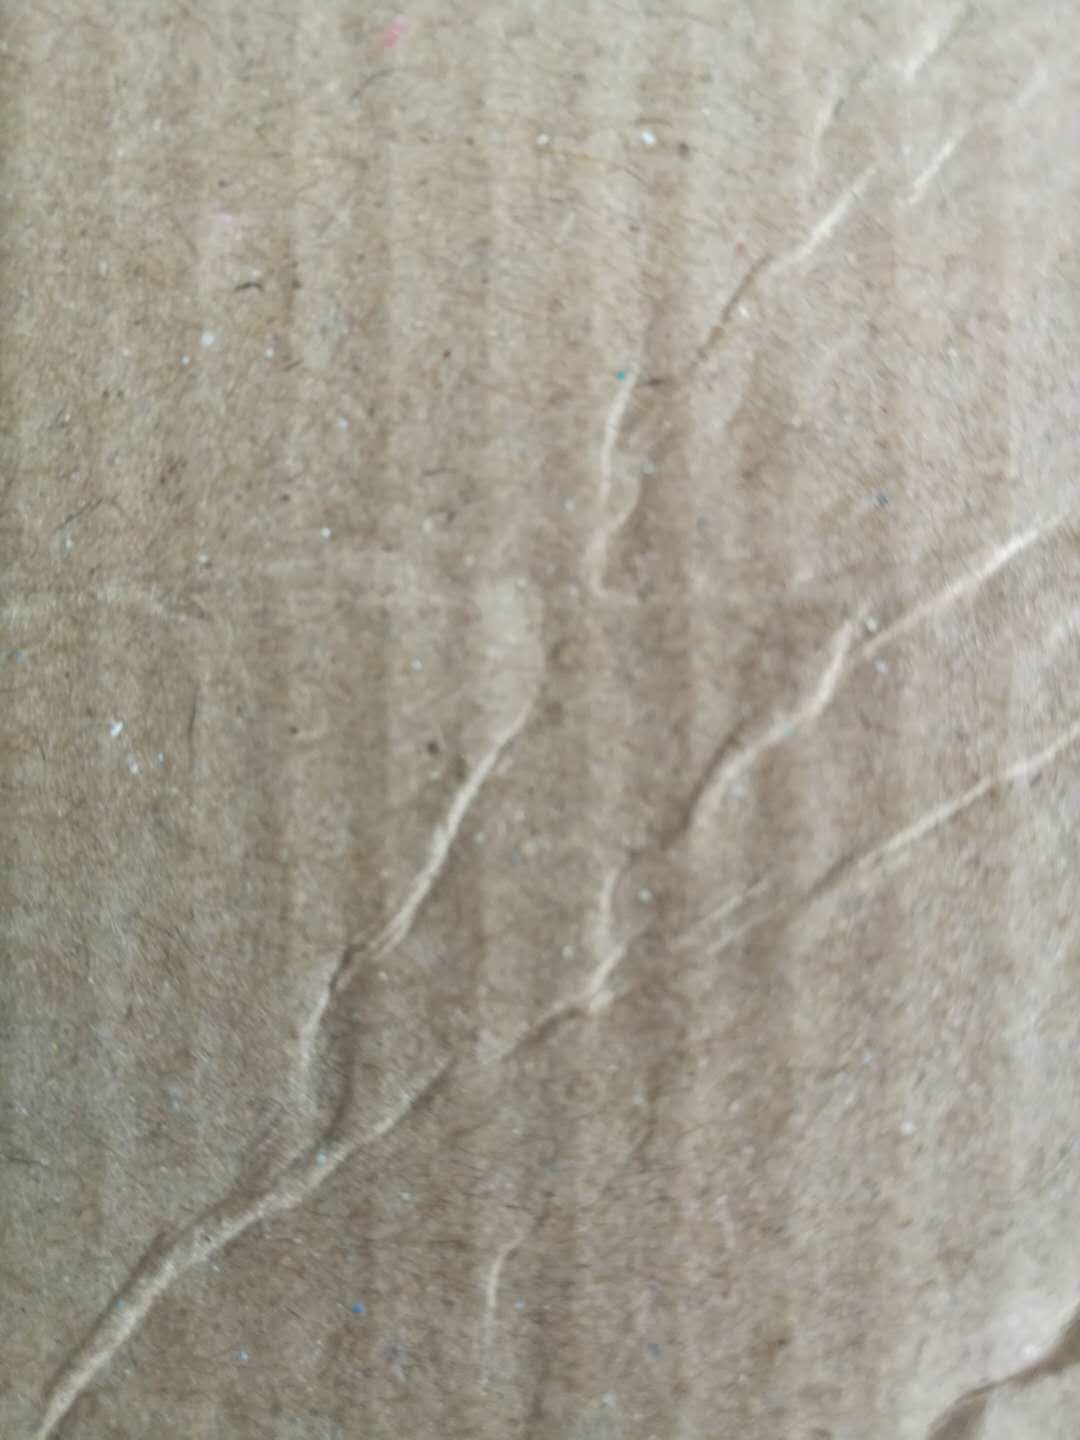defect: (6, 5, 1080, 1434)
